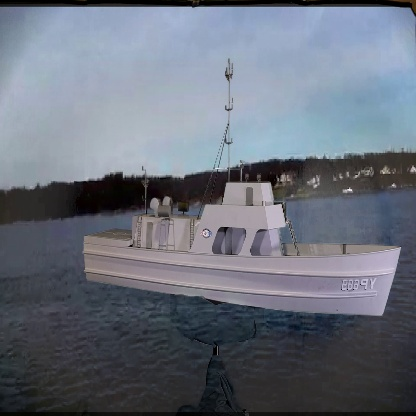YP689: (77, 51, 402, 320)
